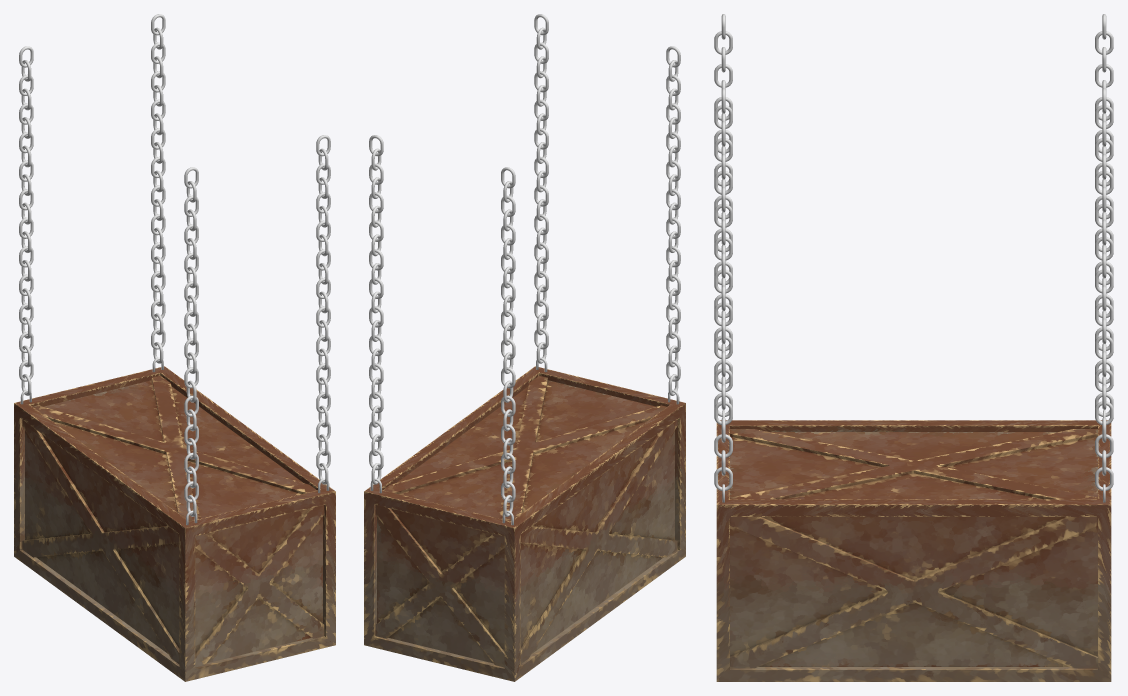
File: Caisse.fbx
The picture shows the model from 3 angles, left to right: view 1: azimuth 30°, elevation 25°; view 2: azimuth 150°, elevation 25°; view 3: azimuth 270°, elevation 25°; orthographic projection. The views are drawn at different scales.
Parts seen in each view (by area): view 1: Cube.007, Cube.003, Torus.005; view 2: Cube.007, Cube.003, Torus.005; view 3: Cube.007, Cube.003, Torus.005.
Part boxes in pixels (bbox=[...]): Cube.007: bbox=[22, 375, 324, 667]; Cube.003: bbox=[14, 366, 335, 681]; Torus.005: bbox=[19, 14, 330, 516]; Cube.007: bbox=[375, 375, 677, 667]; Cube.003: bbox=[364, 366, 685, 681]; Torus.005: bbox=[369, 14, 680, 516]; Cube.007: bbox=[730, 429, 1097, 668]; Cube.003: bbox=[716, 420, 1111, 681]; Torus.005: bbox=[714, 14, 1113, 490].
Bounding box in the file's own units: 17.85 × 57.74 × 35.58.
Materials: 2 (1 with a texture image).
